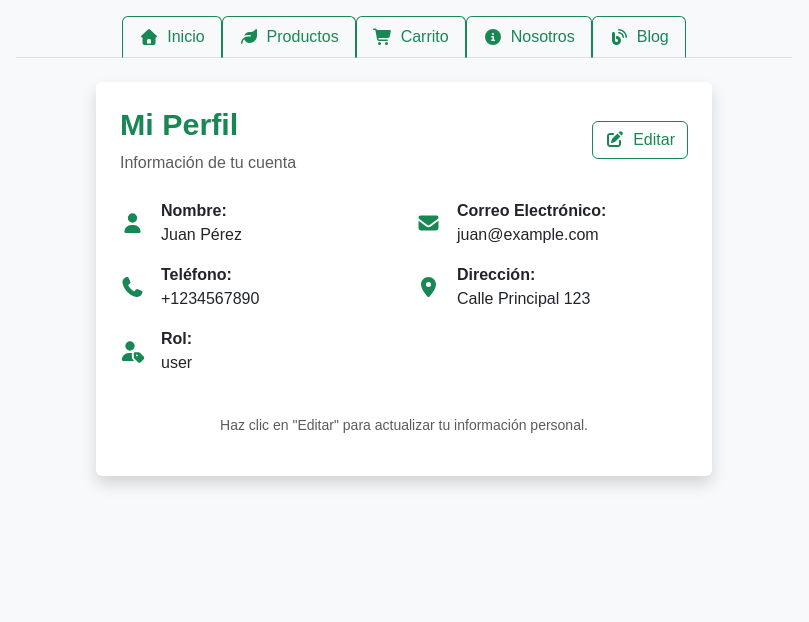
Profile Component › Authenticated user › Edit mode › should validate form fields
This screenshot has width=809, height=622.
Enter edit mode
Click the button "Editar" at (640, 140), box [592,121,688,159]
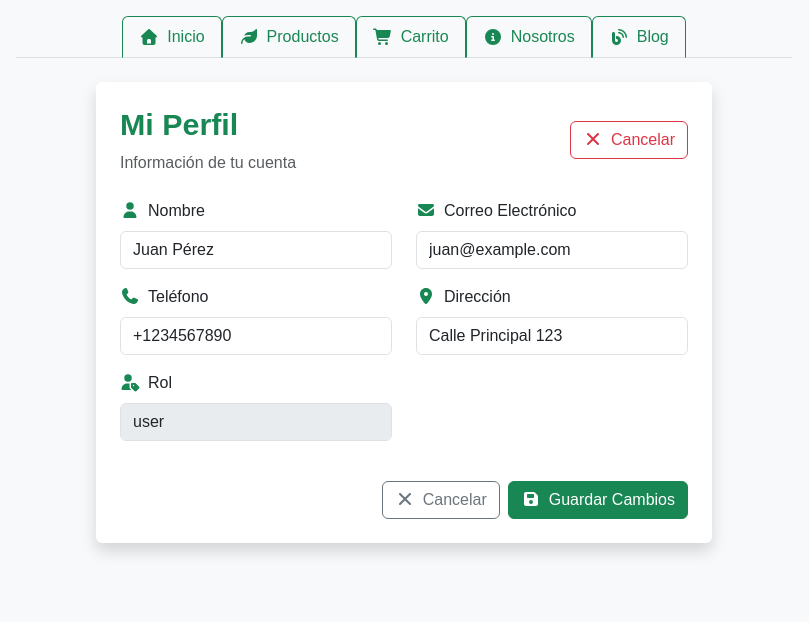
Clear the field showing "Juan Pérez" below "Nombre" at (256, 250), box [120,230,392,268]
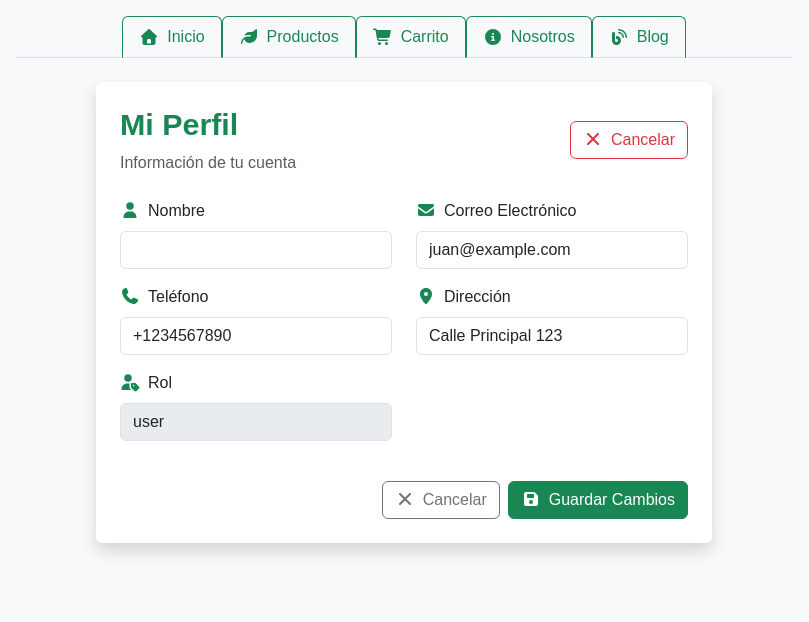
Clear the field showing "juan@example.com" below "Correo Electrónico" at (552, 250), box [416,230,688,268]
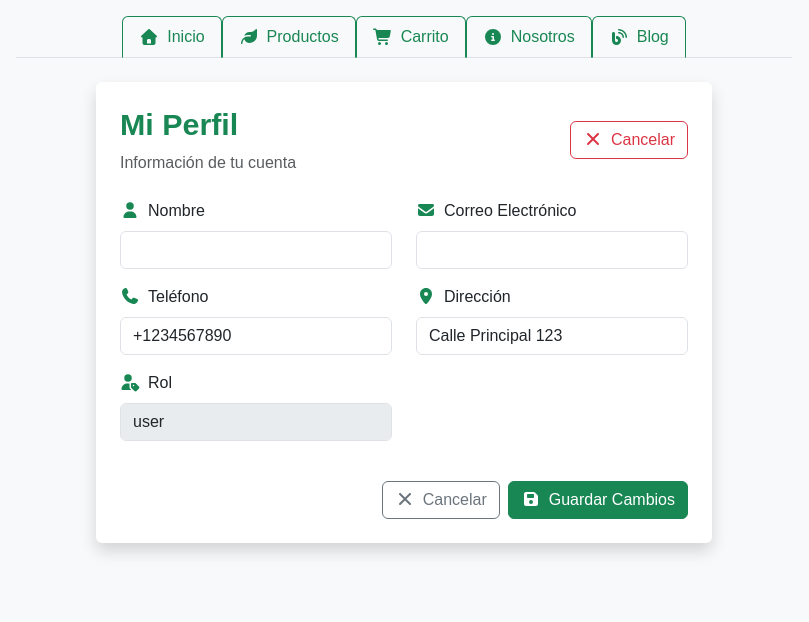
Clear the field showing "+1234567890" below "Teléfono" at (256, 336), box [120,316,392,354]
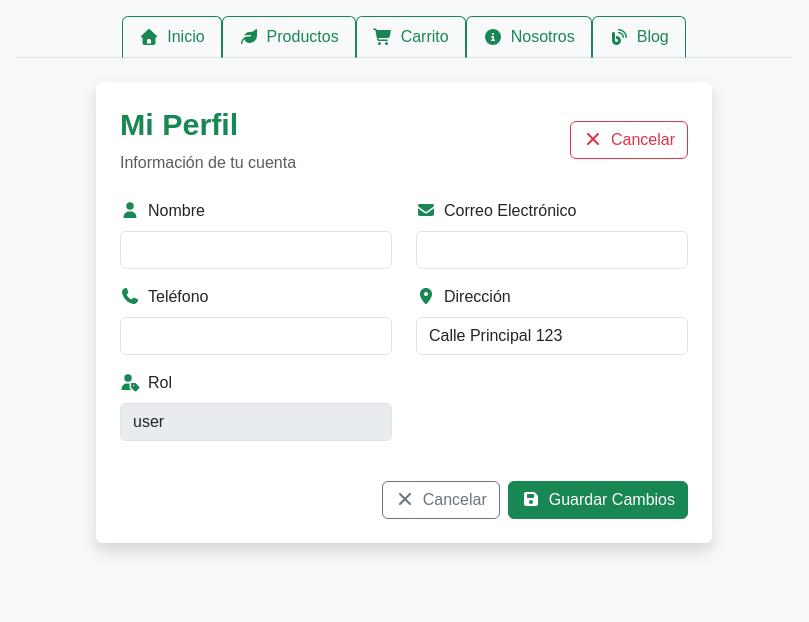
Clear the field showing "Calle Principal 123" below "Dirección" at (552, 336), box [416,316,688,354]
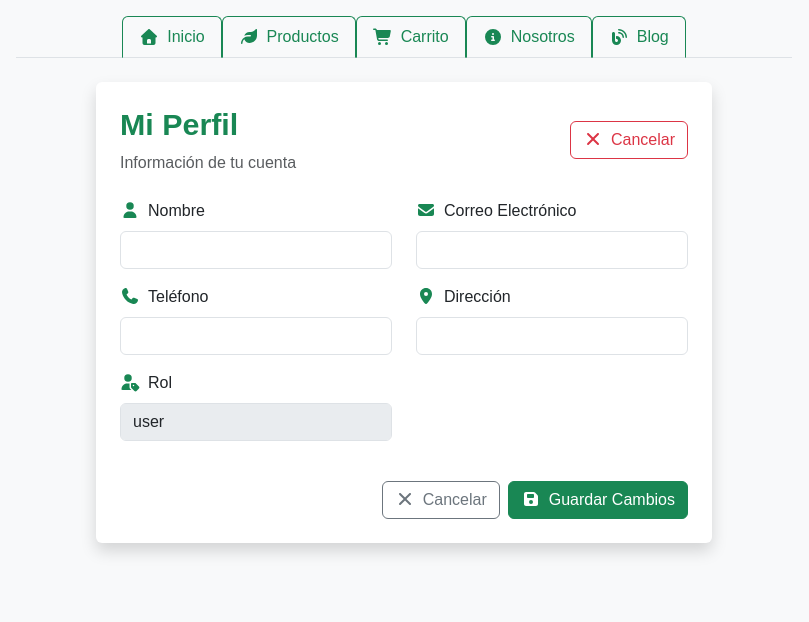
Try to save
Click the button "Guardar Cambios" at (598, 500), box [508,480,688,518]
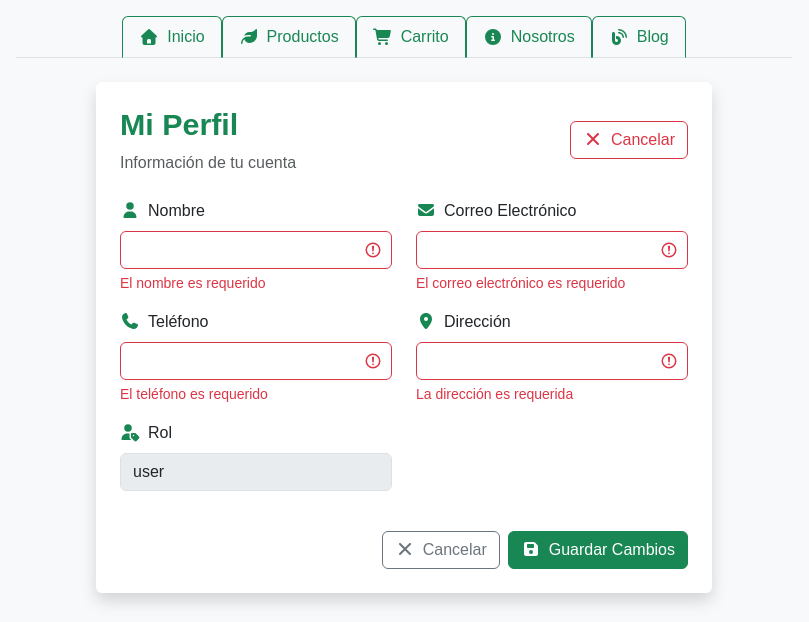
Now the text "El nombre es requerido" is shown, box [120,274,266,290]
Now the text "El correo electrónico es requerido" is shown, box [416,274,625,290]
Now the text "El teléfono es requerido" is shown, box [120,386,268,402]
